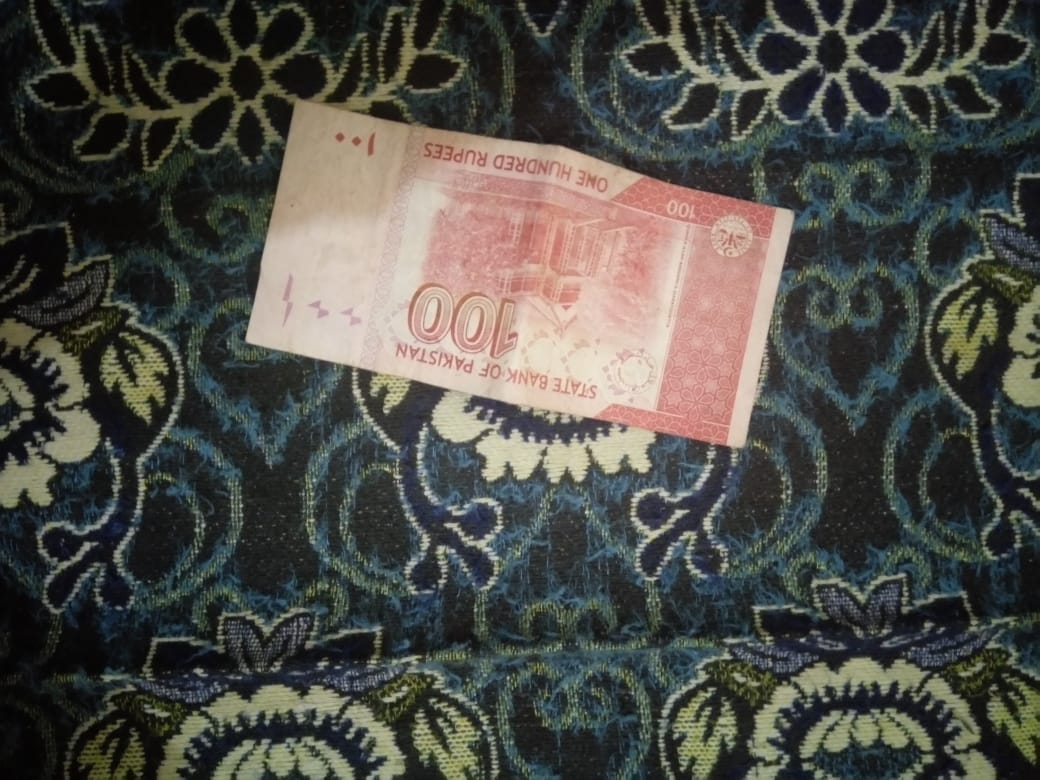100 rupee: (210, 108, 800, 470)
